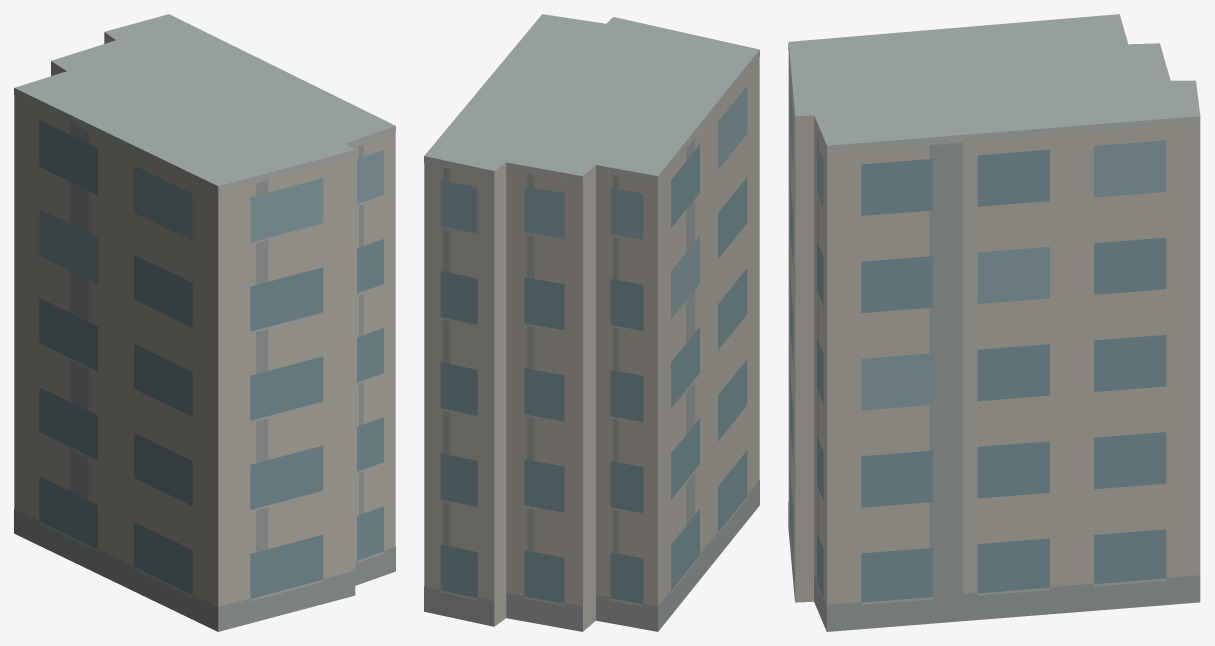
The model's file is survey-upis-32743186.glb.
3 views of the same model, side by side, from view 1: azimuth 30°, elevation 25°; view 2: azimuth 150°, elevation 25°; view 3: azimuth 270°, elevation 25° (orthographic). The views are drawn at different scales.
Parts seen in each view (by area): view 1: survey-upis-32743186.tmp; view 2: survey-upis-32743186.tmp; view 3: survey-upis-32743186.tmp.
Boxes of the visible parts, x1,y1,x2,y2 form: survey-upis-32743186.tmp: (14, 14, 395, 631); survey-upis-32743186.tmp: (424, 14, 759, 631); survey-upis-32743186.tmp: (788, 14, 1200, 631).
Size of the model in its own units: 8.9 by 15.3 by 11.76.
